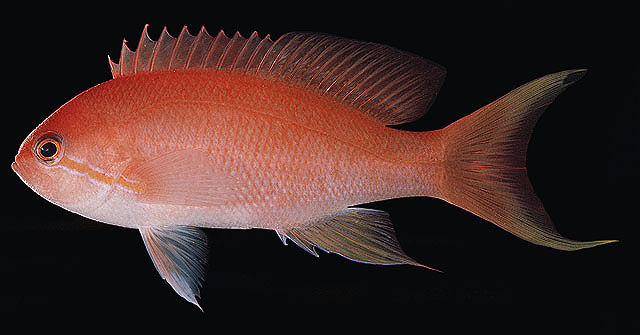fish: (11, 23, 618, 314)
